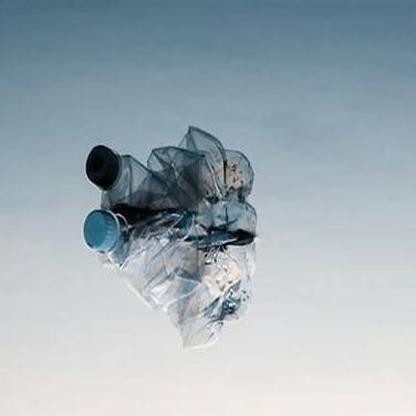plastic bottle: (83, 210, 248, 349)
